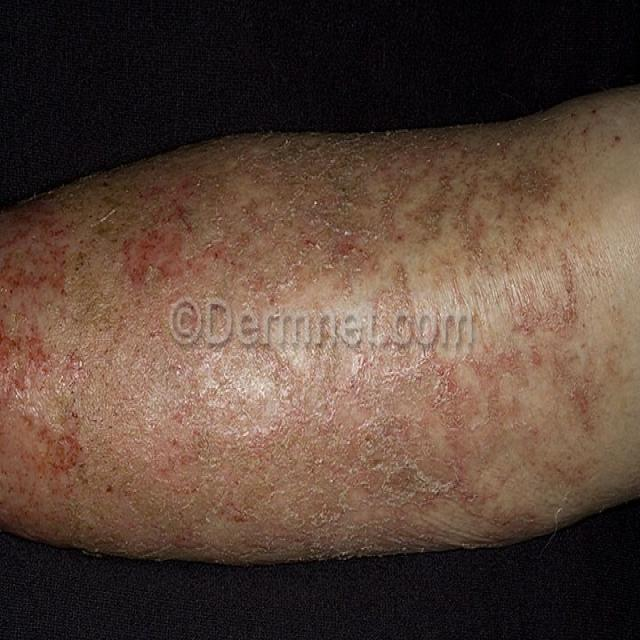Eczema: (0, 156, 562, 561)
